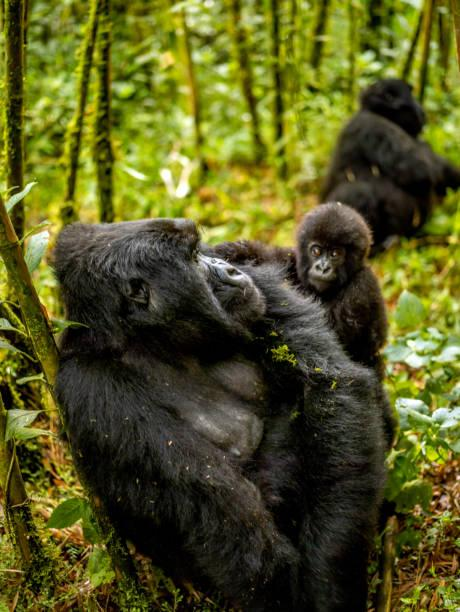goriile_montagne: (48, 200, 306, 604), (328, 77, 460, 224), (292, 194, 395, 354)
